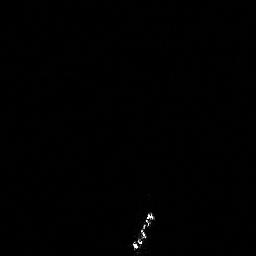ship: (129, 206, 158, 255)
